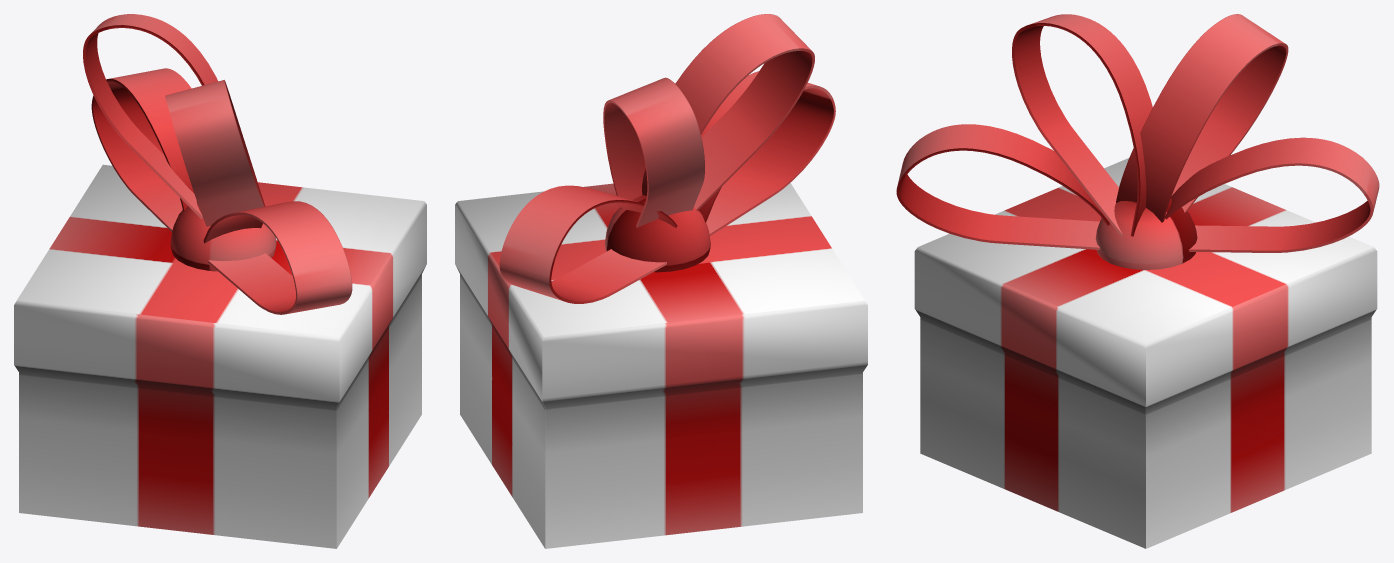
3 views of the same model, side by side, from view 1: azimuth 30°, elevation 25°; view 2: azimuth 150°, elevation 25°; view 3: azimuth 270°, elevation 25° (orthographic). The views are drawn at different scales.
Parts seen in each view (by area): view 1: 立方体, box_1, box_1.3, box_1.1, box_1.2, 球体; view 2: 立方体, box_1.3, box_1.2, box_1.1, box_1, 球体; view 3: 立方体, box_1.2, box_1, box_1.3, box_1.1, 球体.
Part boxes in pixels (x1,y1,x2,y2): 立方体: (14, 164, 426, 548); box_1: (203, 201, 352, 314); box_1.3: (165, 80, 265, 226); box_1.1: (91, 68, 194, 231); box_1.2: (83, 14, 217, 218); 球体: (170, 201, 276, 271); 立方体: (455, 183, 867, 548); box_1.3: (642, 14, 814, 210); box_1.2: (603, 77, 704, 227); box_1.1: (499, 185, 677, 303); box_1: (698, 71, 835, 235); 球体: (604, 195, 710, 272); 立方体: (914, 158, 1377, 548); box_1.2: (1116, 14, 1288, 222); box_1: (896, 124, 1109, 249); box_1.3: (1012, 14, 1152, 236); box_1.1: (1165, 137, 1379, 252); 球体: (1095, 198, 1197, 269).
Size of the model in its own units: 174 by 170 by 182.
Materials: 2 (2 with a texture image).
